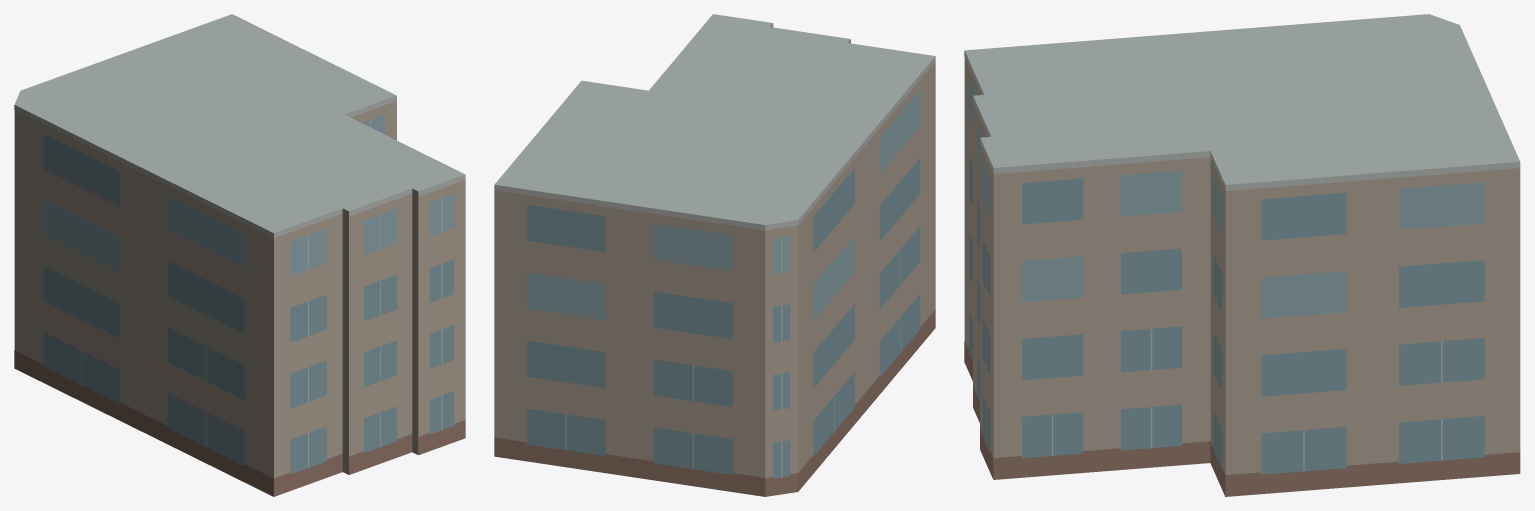
The model's file is survey-upis-32615909.glb.
3 views of the same model, side by side, from view 1: azimuth 30°, elevation 25°; view 2: azimuth 150°, elevation 25°; view 3: azimuth 270°, elevation 25° (orthographic). The views are drawn at different scales.
Parts seen in each view (by area): view 1: survey-upis-32615909.tmp; view 2: survey-upis-32615909.tmp; view 3: survey-upis-32615909.tmp.
Part boxes in pixels (x1=…): survey-upis-32615909.tmp: x1=14, y1=14, x2=465, y2=496; survey-upis-32615909.tmp: x1=494, y1=14, x2=935, y2=496; survey-upis-32615909.tmp: x1=964, y1=14, x2=1520, y2=496.
Size of the model in its own units: 14.35 by 12.2 by 19.71.
